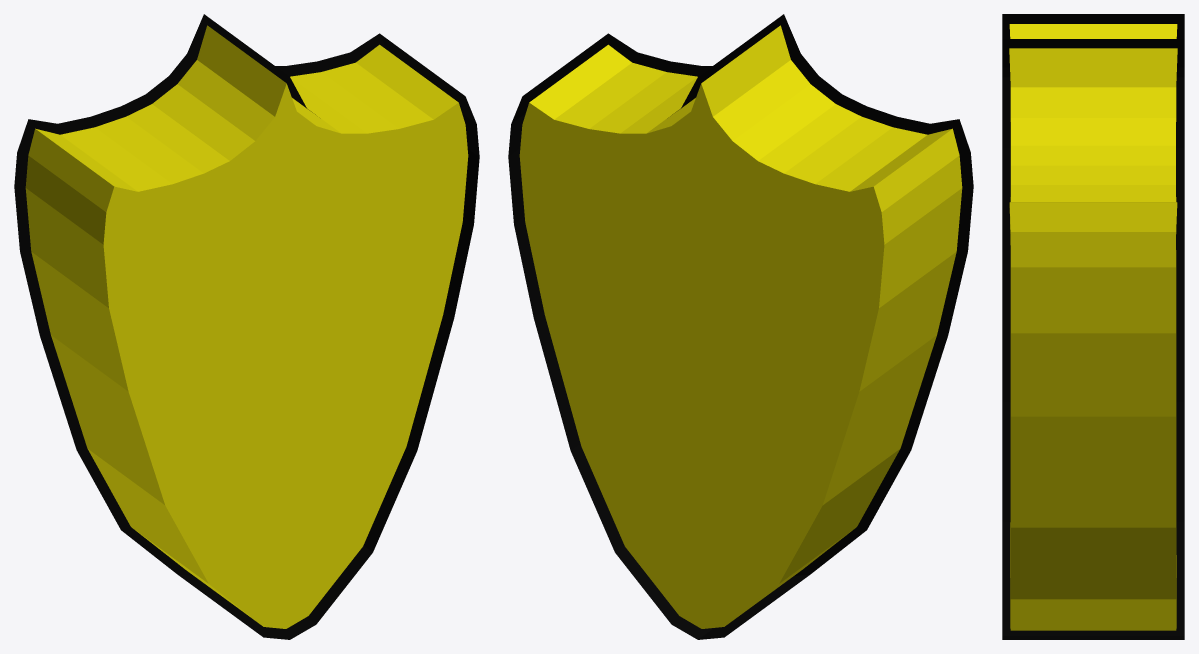
Rendered from Escudo.fbx.
3 views of the same model, side by side, from view 1: azimuth 30°, elevation 25°; view 2: azimuth 150°, elevation 25°; view 3: azimuth 270°, elevation 25° (orthographic). The views are drawn at different scales.
Visible parts, largest first — view 1: Plane.002; view 2: Plane.002; view 3: Plane.002.
Part boxes in pixels (x1,y1,x2,y2): Plane.002: (14, 14, 479, 639); Plane.002: (508, 14, 973, 639); Plane.002: (1002, 14, 1184, 639).
Size of the model in its own units: 37.44 by 53.09 by 14.68.
